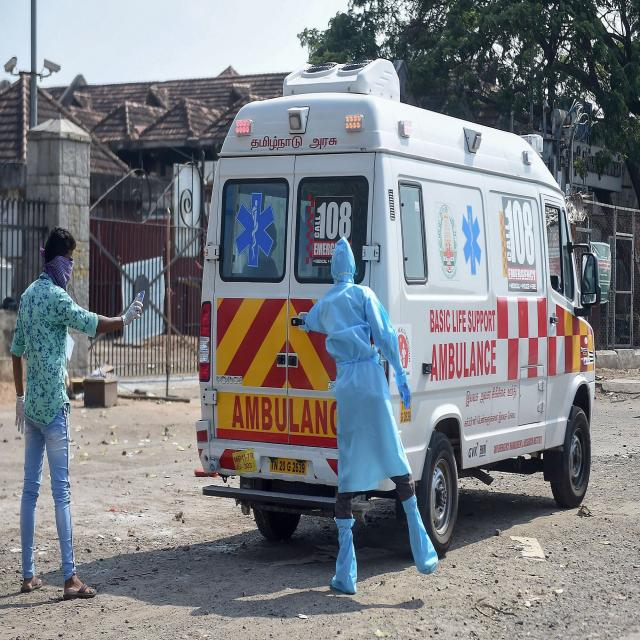ambulance: (196, 56, 597, 551)
